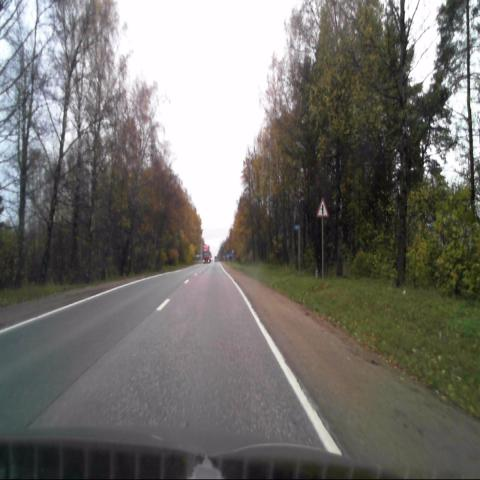2_3_3: (316, 198, 328, 217)
